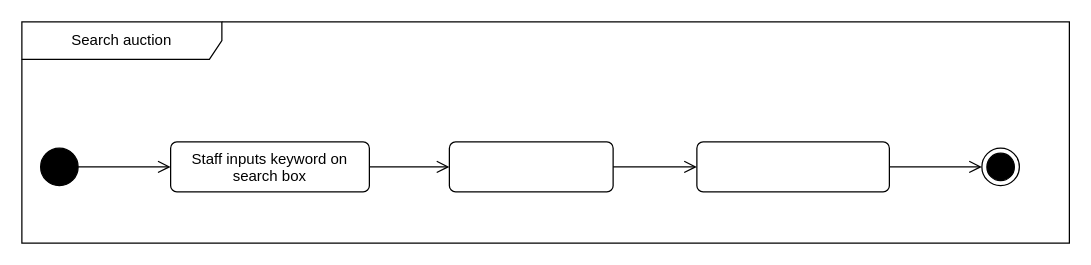
Image size: 1091x265. Some labels were removed from this diagram. Here are the shapes that lost their labels. From the top down, the box of each, then its label:
(448, 141, 613, 192): The system retrieves satisfied auction
(696, 141, 889, 192): The system show all the satisfied auction for staff
